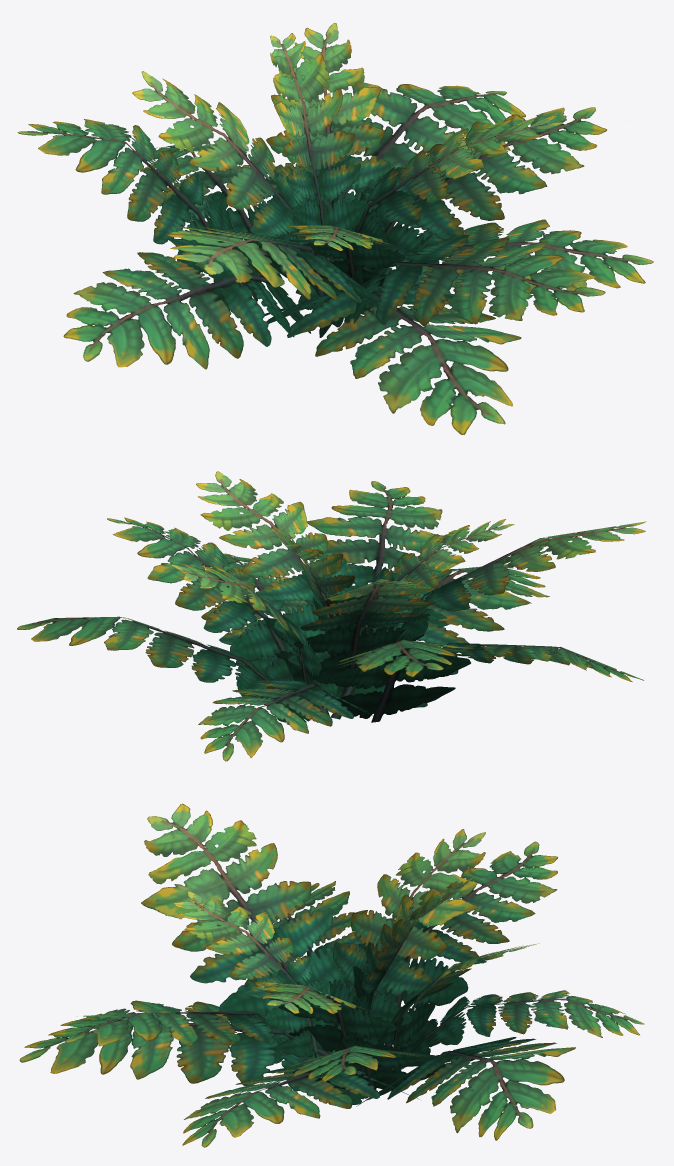
Rendered from fb_qqs_gm_03.FBX.
The picture shows the model from 3 angles, top to bottom: view 1: azimuth 30°, elevation 25°; view 2: azimuth 150°, elevation 25°; view 3: azimuth 270°, elevation 25°; orthographic projection. The views are drawn at different scales.
Visible parts, largest first — view 1: fb_qqs_gm_03; view 2: fb_qqs_gm_03; view 3: fb_qqs_gm_03.
Boxes of the visible parts, x1,y1,x2,y2 form: fb_qqs_gm_03: (17, 23, 653, 434); fb_qqs_gm_03: (17, 471, 646, 761); fb_qqs_gm_03: (19, 803, 644, 1147).
Size of the model in its own units: 403 by 161 by 413.
